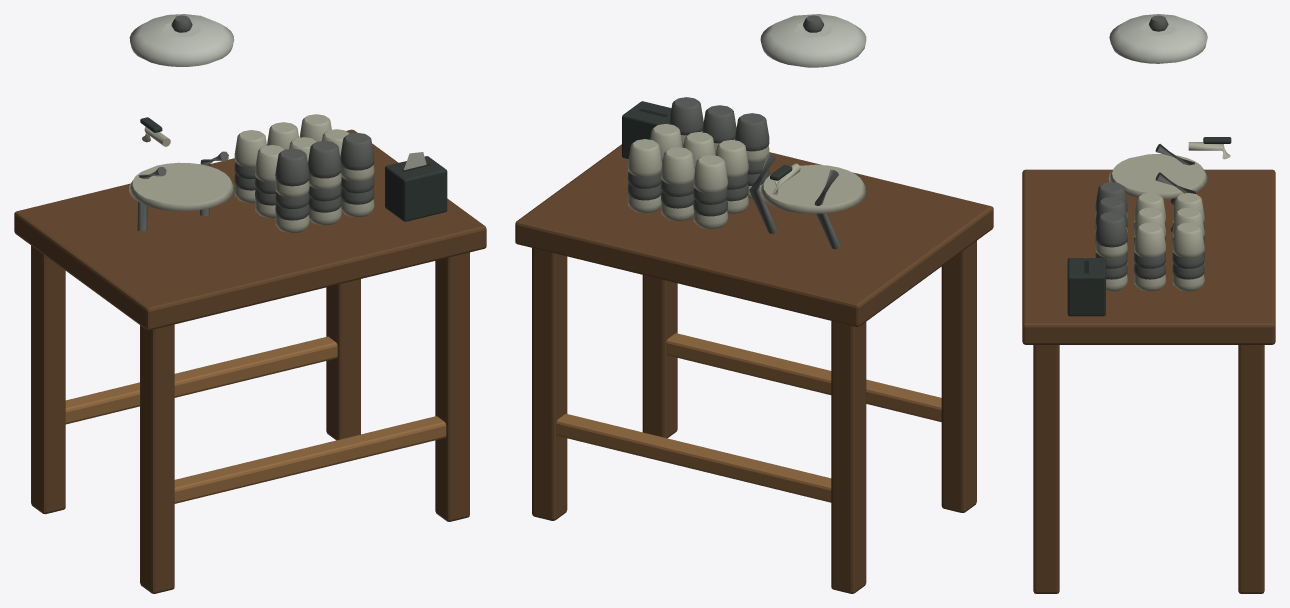
Rendered from refill.glb.
The picture shows the model from 3 angles, left to right: view 1: azimuth 30°, elevation 25°; view 2: azimuth 150°, elevation 25°; view 3: azimuth 270°, elevation 25°; orthographic projection. The views are drawn at different scales.
Parts seen in each view (by area): view 1: Tianjin_refill; view 2: Tianjin_refill; view 3: Tianjin_refill.
Part boxes in pixels (x1,y1,x2,y2): Tianjin_refill: [14, 14, 486, 593]; Tianjin_refill: [515, 14, 993, 593]; Tianjin_refill: [1022, 14, 1275, 593].
Bounding box in the file's own units: 0.998 × 1.42 × 0.684.
